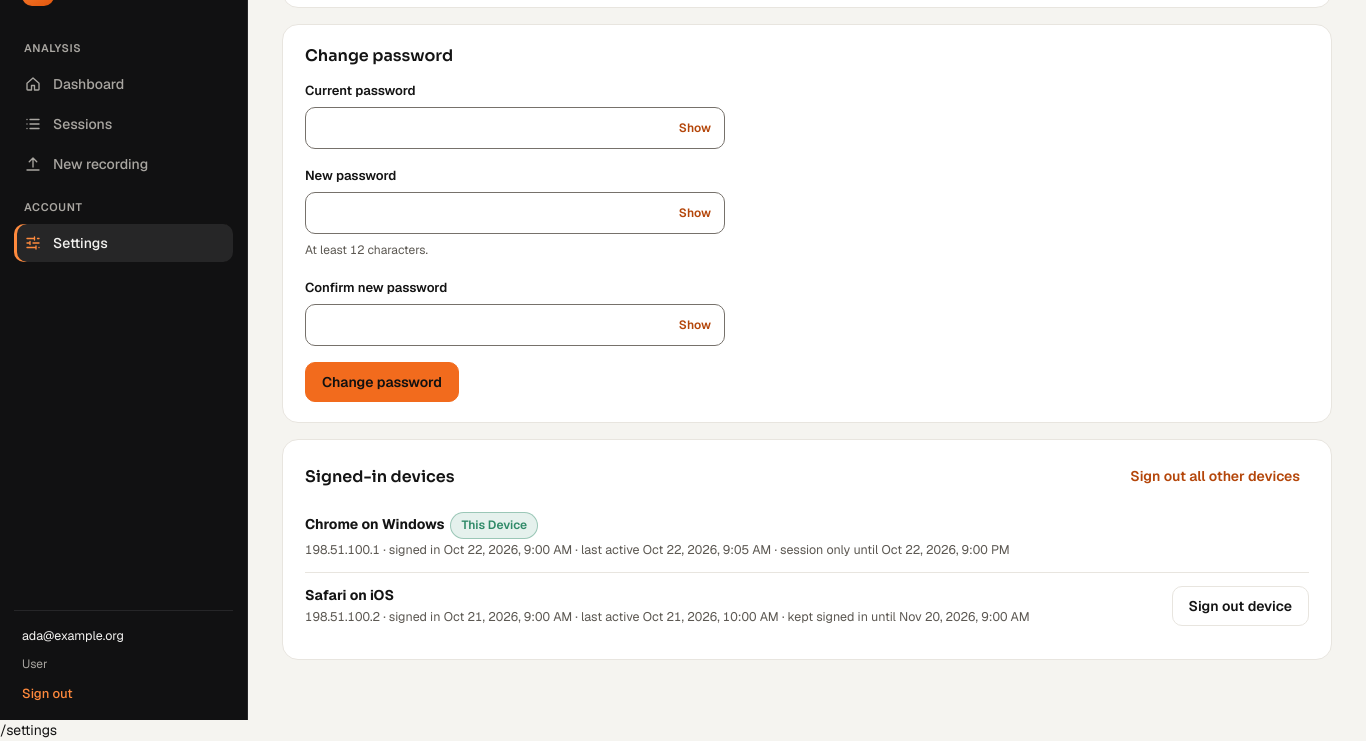
security page › cancelling the dialog does nothing; Escape closes it
(page scrolled)
Click the button "Sign out all other devices": x=1215, y=476 [1121, 460, 1309, 492]
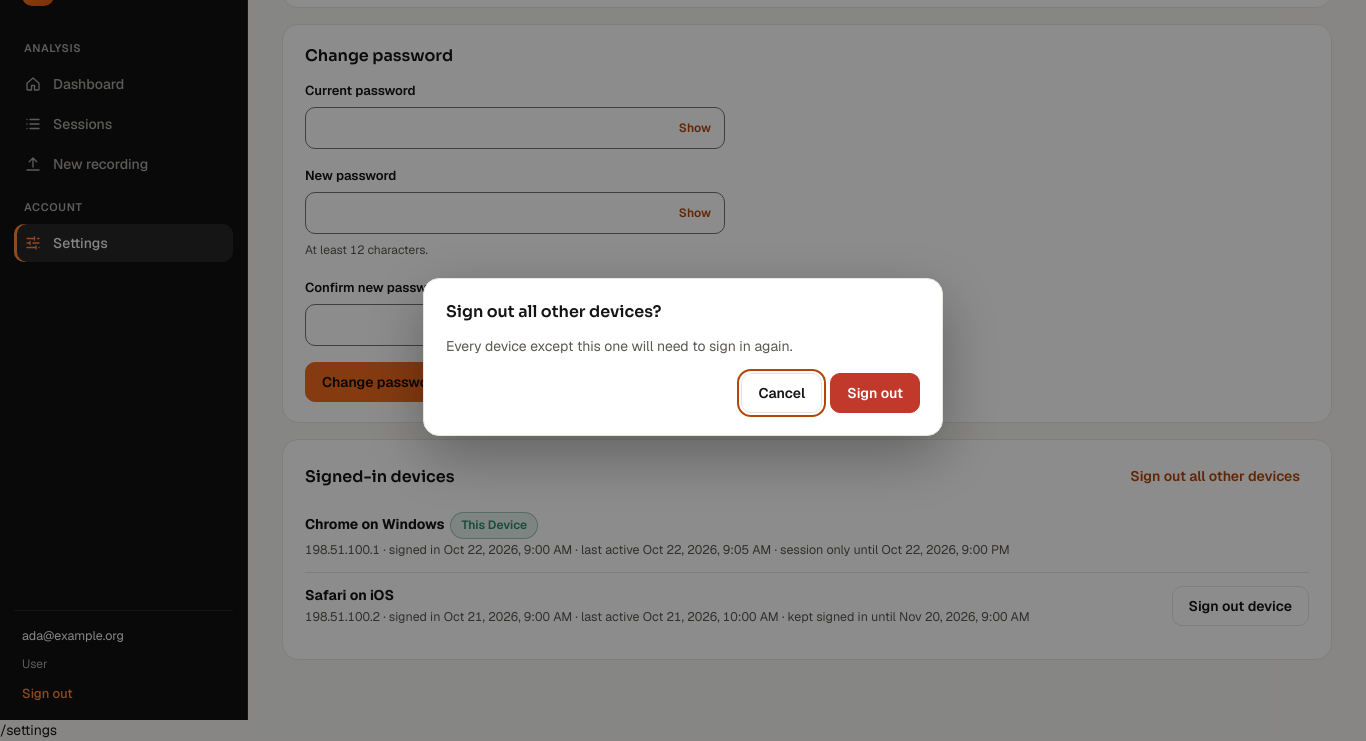
Press Escape
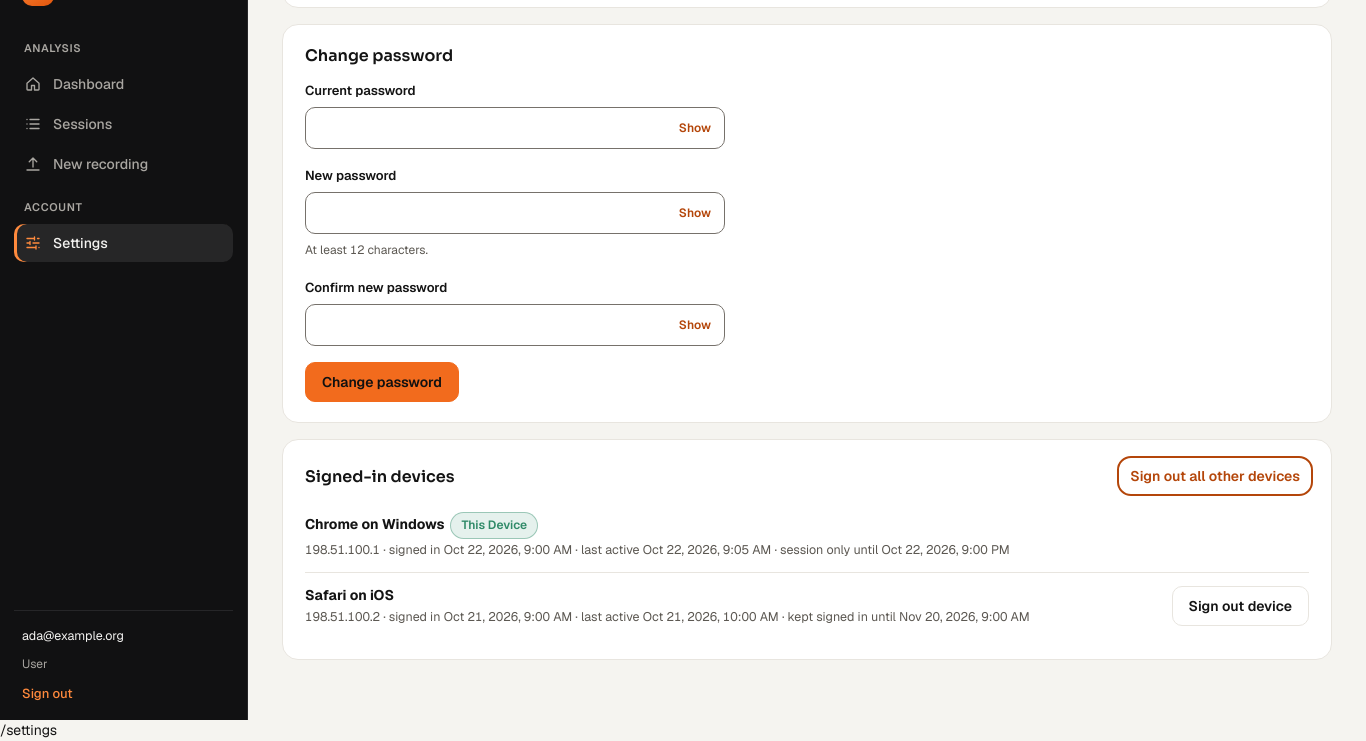
Check: the dialog is gone
